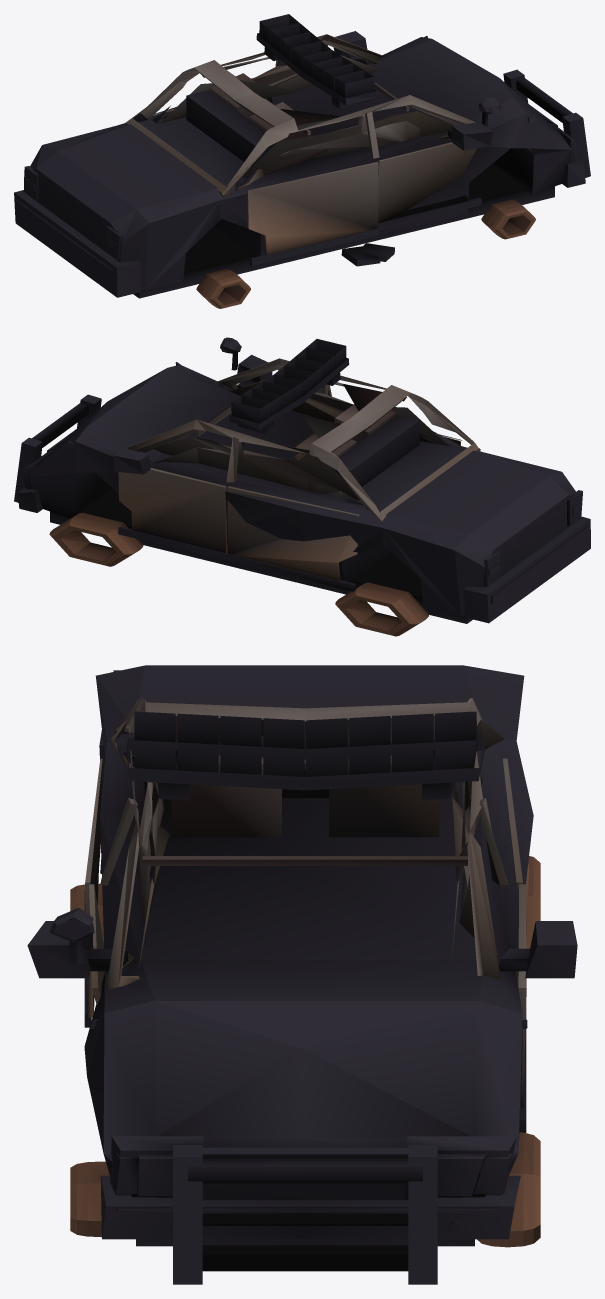
The model's file is veh.police-sedan.burned.lod2.glb.
3 views of the same model, one above another, from view 1: azimuth 30°, elevation 25°; view 2: azimuth 150°, elevation 25°; view 3: azimuth 270°, elevation 25° (orthographic). The views are drawn at different scales.
Parts seen in each view (by area): view 1: body, wheelFL, wheelRL; view 2: body, wheelRR, wheelFR; view 3: body, wheelFR, wheelFL, wheelRR.
Part boxes in pixels (bbox=[...]): body: bbox=[14, 14, 590, 298]; wheelFL: bbox=[481, 199, 535, 239]; wheelRL: bbox=[196, 269, 250, 308]; body: bbox=[14, 337, 590, 623]; wheelRR: bbox=[335, 582, 428, 636]; wheelFR: bbox=[49, 512, 143, 566]; body: bbox=[27, 665, 577, 1284]; wheelFR: bbox=[477, 1132, 540, 1247]; wheelFL: bbox=[70, 1161, 109, 1237]; wheelRR: bbox=[526, 856, 540, 948].
Bounding box in the file's own units: 5.04 × 1.77 × 2.43.
